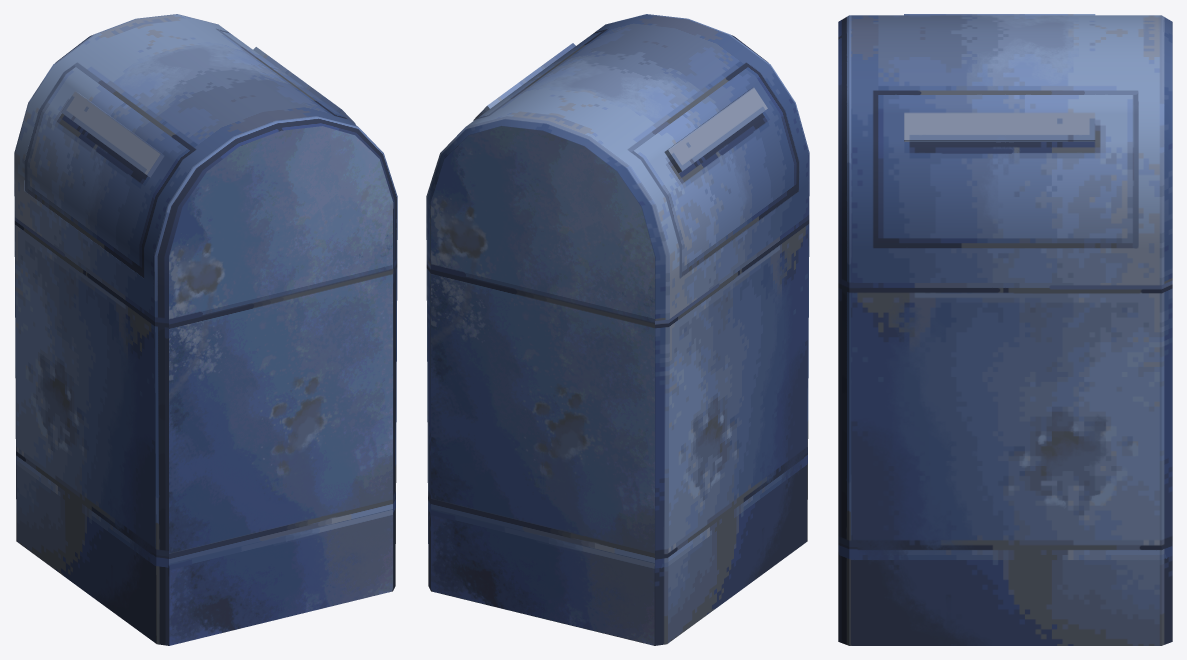
Rendered from Mailbox2.fbx.
3 renders of one model, left to right at view 1: azimuth 30°, elevation 25°; view 2: azimuth 150°, elevation 25°; view 3: azimuth 270°, elevation 25°, orthographic. The views are drawn at different scales.
Visible parts, largest first — view 1: l1_mailboxbig_Shape, l1_mailboxbig_Shape.004, l1_mailboxbig_Shape.003; view 2: l1_mailboxbig_Shape, l1_mailboxbig_Shape.004, l1_mailboxbig_Shape.003; view 3: l1_mailboxbig_Shape, l1_mailboxbig_Shape.003.
Boxes of the visible parts, left/top/right/bottom form: l1_mailboxbig_Shape: left=14, top=14, right=397, bottom=645; l1_mailboxbig_Shape.004: left=24, top=62, right=196, bottom=278; l1_mailboxbig_Shape.003: left=216, top=29, right=355, bottom=124; l1_mailboxbig_Shape: left=426, top=14, right=809, bottom=645; l1_mailboxbig_Shape.004: left=627, top=62, right=798, bottom=278; l1_mailboxbig_Shape.003: left=473, top=29, right=607, bottom=120; l1_mailboxbig_Shape: left=838, top=15, right=1172, bottom=645; l1_mailboxbig_Shape.003: left=872, top=90, right=1138, bottom=248.
Bounding box in the file's own units: 74.46 × 145 × 79.79.
